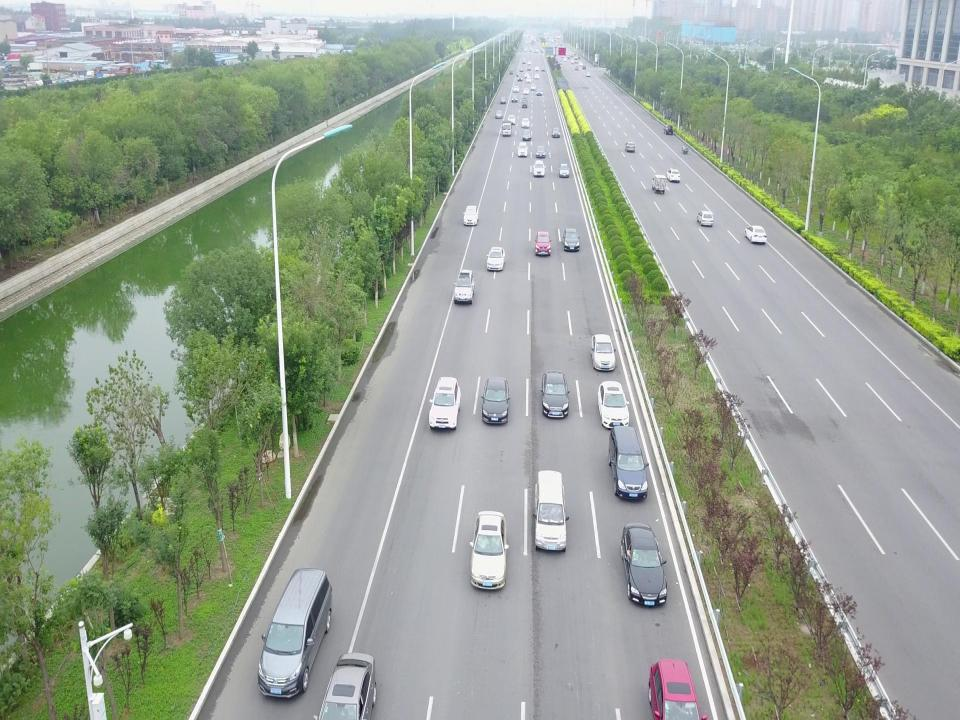car: (313, 651, 377, 720), (620, 522, 668, 606), (648, 657, 709, 720), (469, 510, 509, 591), (429, 377, 461, 430), (597, 380, 630, 429), (540, 370, 570, 419), (482, 377, 510, 424), (590, 334, 616, 371), (454, 269, 474, 303), (534, 231, 552, 256), (487, 246, 505, 271), (744, 225, 766, 245), (562, 228, 580, 251), (463, 205, 480, 227), (696, 210, 714, 227), (532, 160, 545, 177), (666, 168, 680, 182), (558, 164, 570, 178), (518, 142, 528, 157), (536, 145, 546, 158), (522, 130, 532, 142), (663, 124, 673, 135), (625, 142, 635, 153), (552, 127, 561, 138), (495, 109, 503, 119), (507, 114, 515, 124), (522, 118, 528, 128), (511, 95, 518, 102), (523, 87, 529, 95), (500, 96, 506, 104), (536, 88, 542, 95), (513, 86, 519, 92), (531, 84, 535, 91)
truck: (652, 174, 666, 194), (501, 120, 512, 137)
van: (258, 568, 333, 702), (607, 424, 649, 502), (533, 469, 569, 553), (522, 97, 528, 108)
